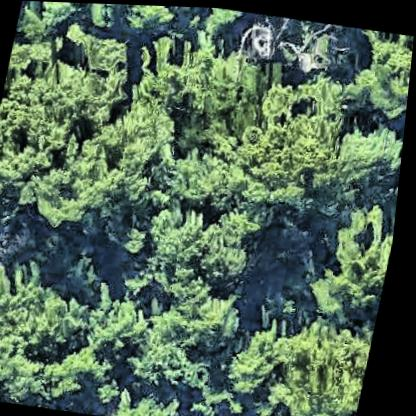tree-top: (233, 63, 360, 211), (227, 308, 381, 416), (0, 255, 106, 410), (63, 101, 181, 231), (123, 202, 271, 303), (130, 287, 245, 390), (312, 192, 401, 321), (0, 65, 85, 191), (128, 29, 223, 116), (161, 135, 252, 211), (191, 64, 273, 148), (342, 26, 415, 119), (329, 120, 407, 197), (84, 289, 159, 353), (12, 0, 80, 46), (122, 4, 178, 35)
